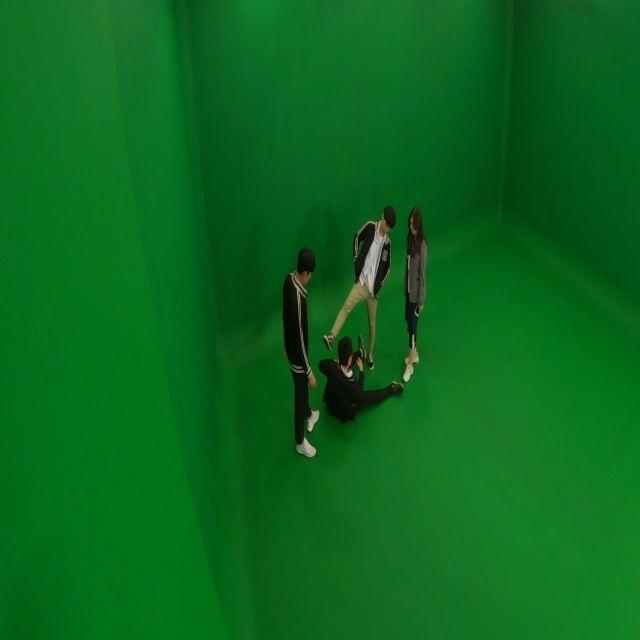fight: (317, 202, 405, 424)
non-fight: (275, 245, 324, 460), (401, 206, 428, 380)
